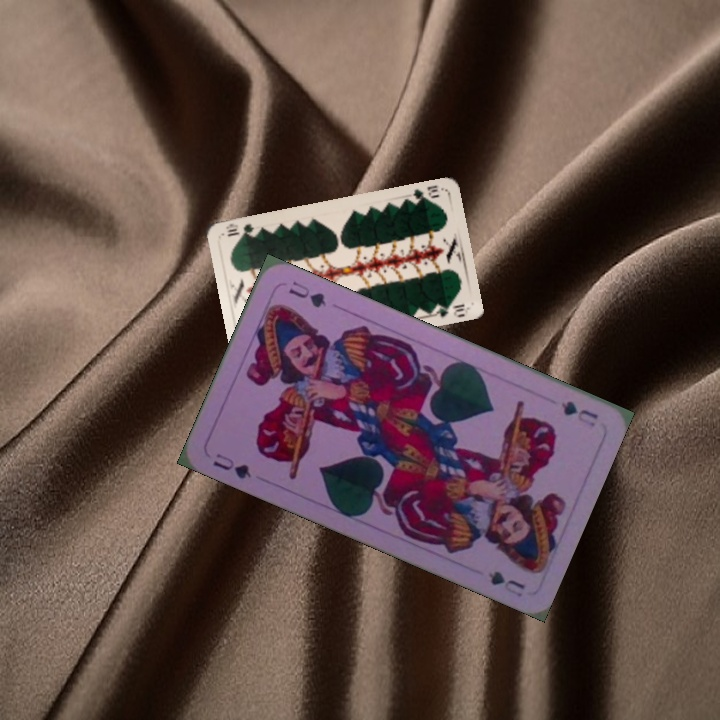G10: (409, 181, 442, 204)
GU: (209, 449, 254, 482), (557, 396, 601, 429)
